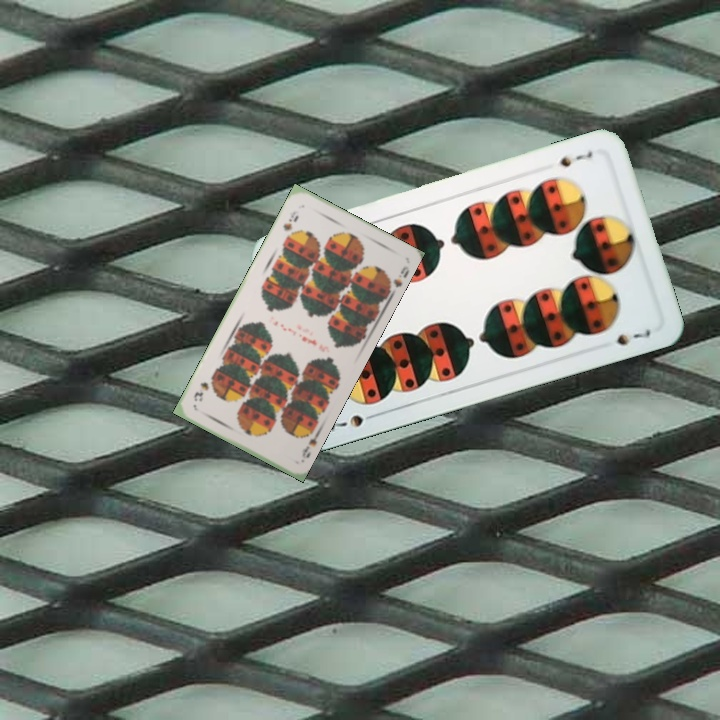S7: (325, 409, 382, 435), (556, 147, 595, 170)
S9: (297, 424, 323, 464), (279, 207, 301, 233)
